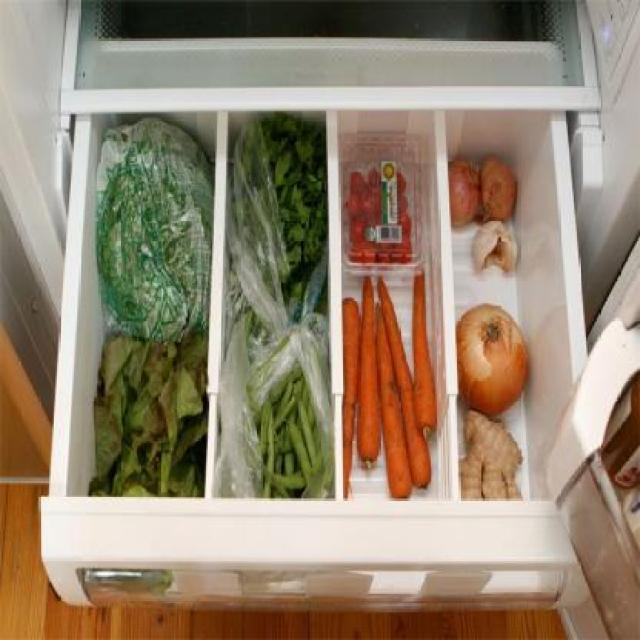carrot: (375, 304, 413, 504), (410, 264, 438, 447), (356, 266, 378, 472), (338, 284, 358, 498)
